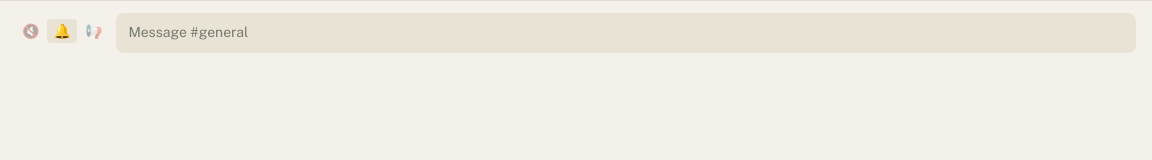
Test: ComposeBar › shows priority label when not standard
Click the button "🔇" at (31, 31), box [16,19,46,43]
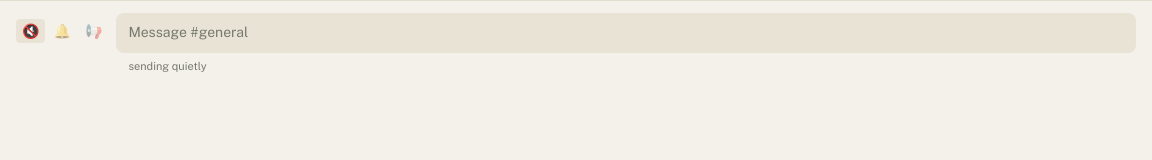
Result: the text "sending quietly" is shown at [128,59,207,74]
